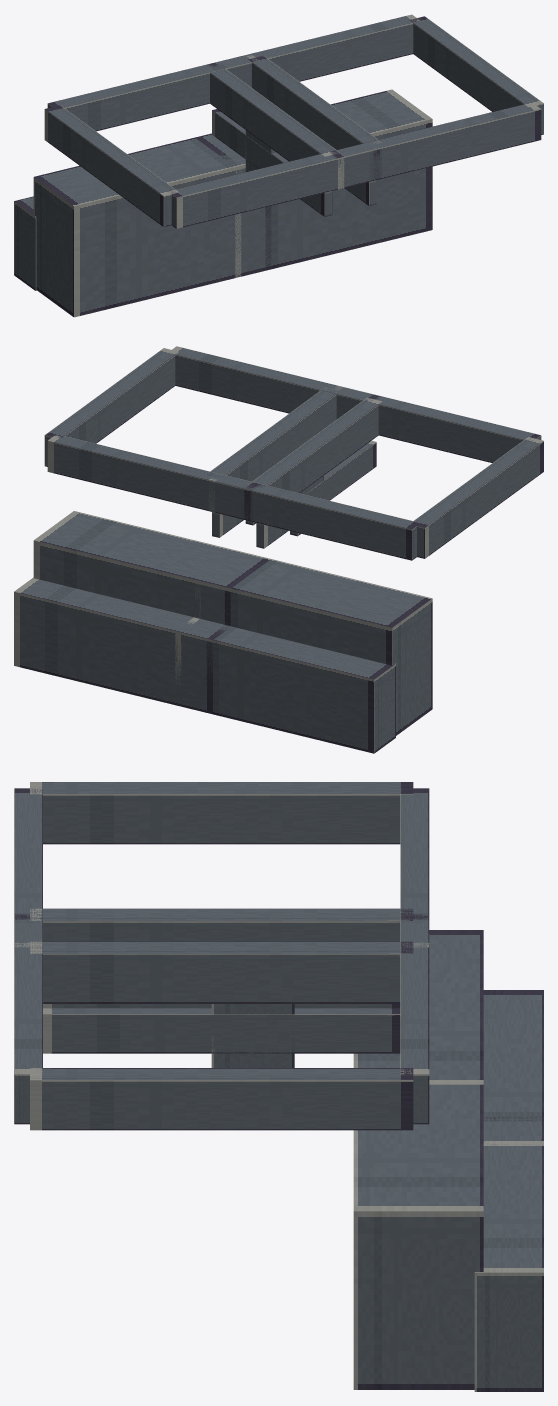
The model's file is workpiece_xuantie_boots_tempered.obj.
3 renders of one model, top to bottom at view 1: azimuth 30°, elevation 25°; view 2: azimuth 150°, elevation 25°; view 3: azimuth 270°, elevation 25°, orthographic. The views are drawn at different scales.
Parts seen in each view (by area): view 1: geometry; view 2: geometry; view 3: geometry.
Boxes of the visible parts, bbox=[...] form: geometry: bbox=[14, 14, 543, 317]; geometry: bbox=[14, 346, 543, 753]; geometry: bbox=[14, 782, 543, 1391].
Bounding box in the file's own units: 0.56 × 0.2794 × 0.4203.
